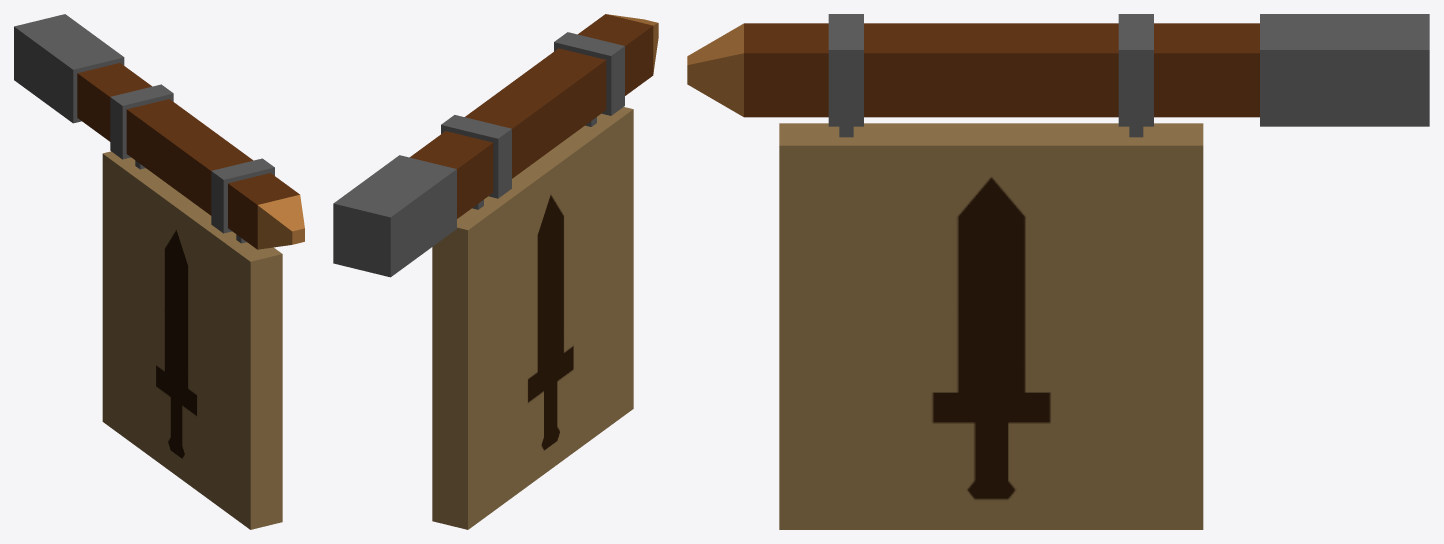
Rendered from HangingSign_01.fbx.
The picture shows the model from 3 angles, left to right: view 1: azimuth 30°, elevation 25°; view 2: azimuth 150°, elevation 25°; view 3: azimuth 270°, elevation 25°; orthographic projection. The views are drawn at different scales.
Parts seen in each view (by area): view 1: HangingSign_01; view 2: HangingSign_01; view 3: HangingSign_01.
Boxes of the visible parts, x1,y1,x2,y2 form: HangingSign_01: [14, 14, 304, 529]; HangingSign_01: [333, 14, 658, 529]; HangingSign_01: [687, 14, 1429, 529].
Bounding box in the file's own units: 12 × 76 × 105.
Materials: 1 (1 with a texture image).
